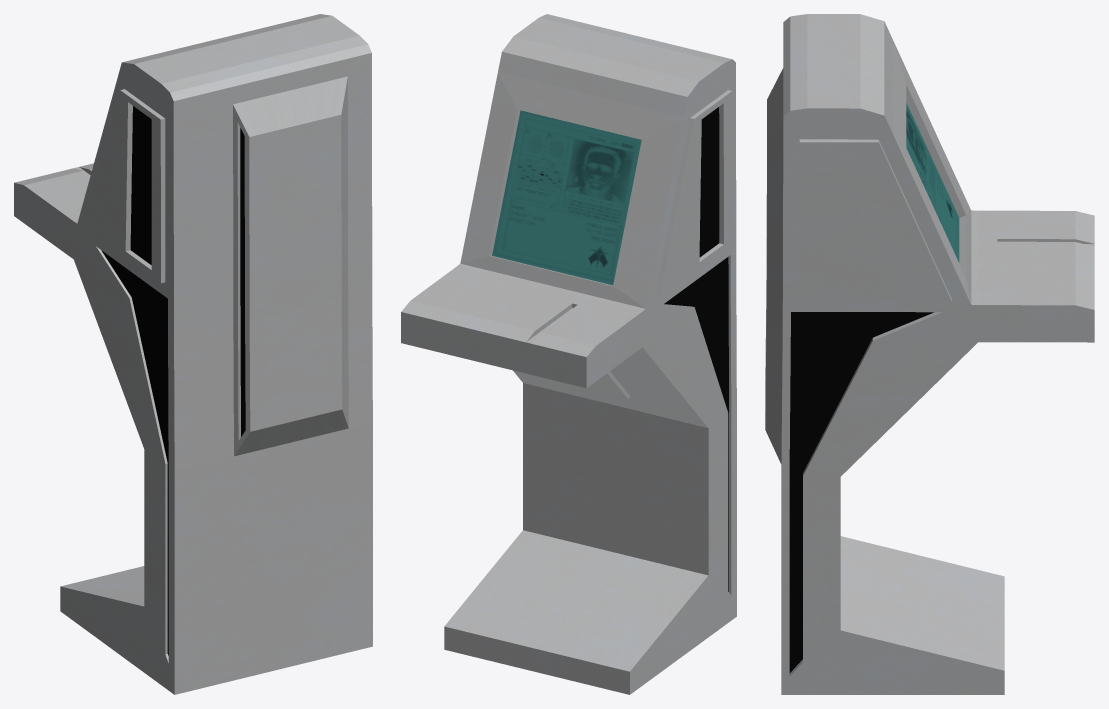
File: console_hallway.fbx
The picture shows the model from 3 angles, left to right: view 1: azimuth 30°, elevation 25°; view 2: azimuth 150°, elevation 25°; view 3: azimuth 270°, elevation 25°; orthographic projection. The views are drawn at different scales.
Parts seen in each view (by area): view 1: Cube.019; view 2: Cube.019; view 3: Cube.019.
Boxes of the visible parts, x1,y1,x2,y2 form: Cube.019: (14,14,372,694); Cube.019: (401,14,736,694); Cube.019: (765,14,1094,694).
Size of the model in its own units: 96.97 by 267 by 136.
